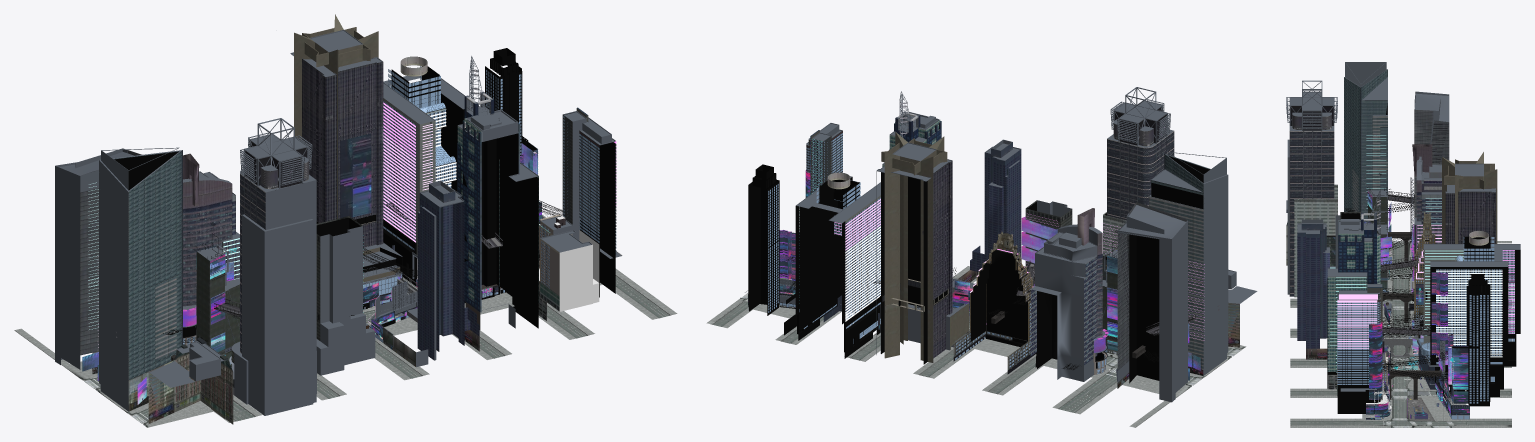
File: city10feb.glb
3 views of the same model, side by side, from view 1: azimuth 30°, elevation 25°; view 2: azimuth 150°, elevation 25°; view 3: azimuth 270°, elevation 25° (orthographic). The views are drawn at different scales.
Visible parts, largest first — view 1: Object_180, Object_138, Object_41, Object_26, Object_113, Object_104, Object_17, Object_32, Object_38, Object_44, Object_47, Object_134 (+6 smaller); view 2: Object_26, Object_180, Object_41, Object_104, Object_32, Object_44, Object_113, Object_17, Object_38, Object_44.002, Object_186, Object_125 (+5 smaller); view 3: Object_180, Object_17, Object_32, Object_41, Object_44, Object_26, Object_38, Object_44.001, Object_104, Object_47.001, Object_138, Object_125 (+31 smaller).
Part boxes in pixels (<box>): Object_180: <box>80,58,538,404</box>; Object_138: <box>234,56,518,415</box>; Object_41: <box>92,14,491,424</box>; Object_26: <box>114,66,615,335</box>; Object_113: <box>99,147,396,411</box>; Object_104: <box>55,30,382,369</box>; Object_17: <box>183,66,616,364</box>; Object_32: <box>14,214,677,427</box>; Object_38: <box>59,118,315,381</box>; Object_44: <box>355,48,536,309</box>; Object_47: <box>407,108,615,351</box>; Object_134: <box>367,58,615,346</box>; Object_26: <box>749,156,1209,383</box>; Object_180: <box>882,111,1210,370</box>; Object_41: <box>827,101,1239,388</box>; Object_104: <box>876,142,1187,402</box>; Object_32: <box>706,266,1245,427</box>; Object_44: <box>748,164,900,358</box>; Object_113: <box>880,152,1257,375</box>; Object_17: <box>768,133,1107,373</box>; Object_38: <box>1107,87,1236,289</box>; Object_44.002: <box>834,222,880,321</box>; Object_186: <box>823,250,1200,380</box>; Object_125: <box>796,176,968,350</box>; Object_180: <box>1289,69,1495,371</box>; Object_17: <box>1337,237,1514,419</box>; Object_32: <box>1290,241,1511,427</box>; Object_41: <box>1286,106,1514,343</box>; Object_44: <box>1418,250,1520,404</box>; Object_26: <box>1326,103,1502,413</box>; Object_38: <box>1286,77,1448,267</box>; Object_44.001: <box>1436,270,1502,357</box>; Object_104: <box>1387,91,1495,287</box>; Object_47.001: <box>1337,294,1377,348</box>; Object_138: <box>1287,157,1391,313</box>; Object_125: <box>1390,244,1520,378</box>.
Size of the model in its own units: 29.8 by 20.58 by 15.74.
26 materials, 16 textured.
